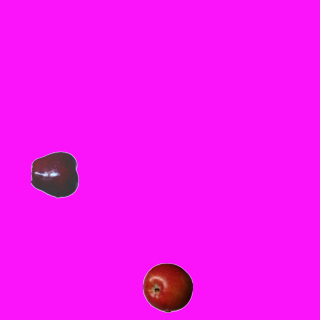Apple Braeburn: (142, 262, 192, 312)
Apple Red Delicious: (30, 149, 80, 199)
